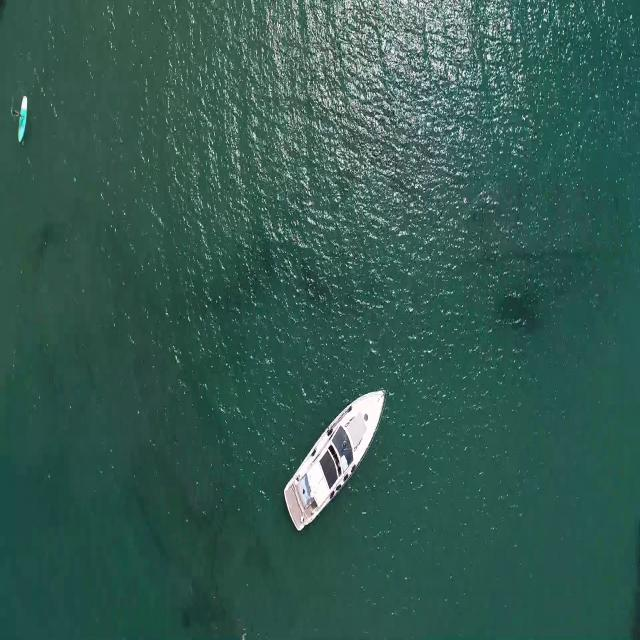boat: (276, 387, 386, 531)
person: (14, 104, 27, 120)
surfboard: (19, 94, 31, 141)
